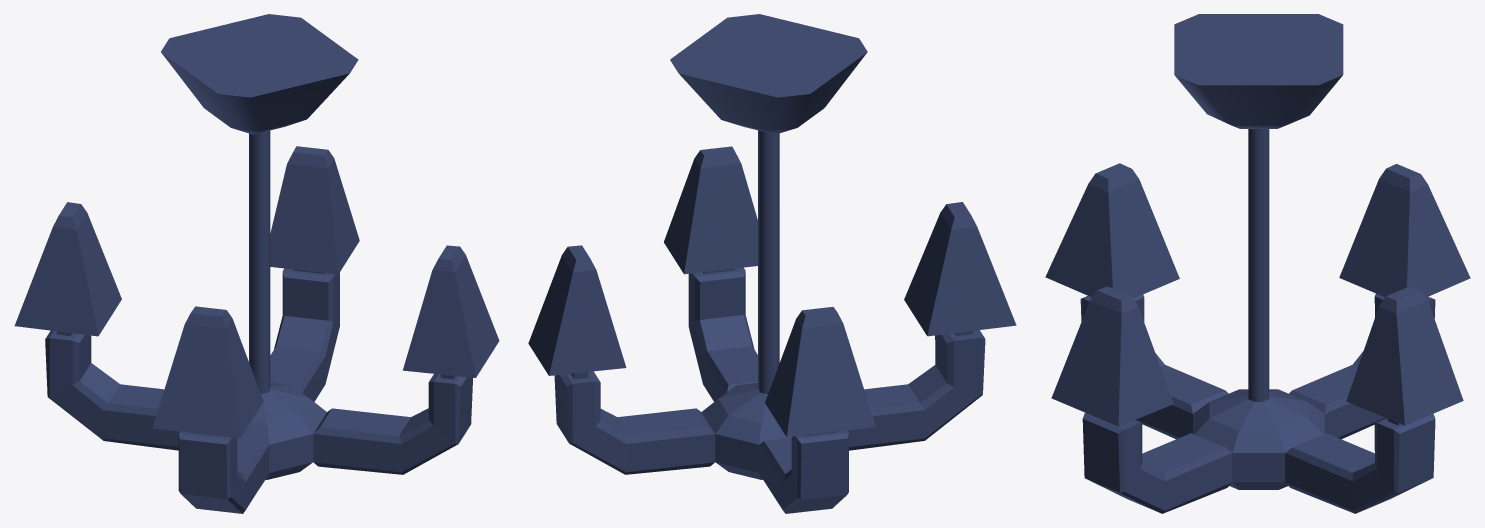
Rendered from Chandalere.fbx.
3 renders of one model, left to right at view 1: azimuth 30°, elevation 25°; view 2: azimuth 150°, elevation 25°; view 3: azimuth 270°, elevation 25°, orthographic. The views are drawn at different scales.
Parts seen in each view (by area): view 1: Chandalere_Base; view 2: Chandalere_Base; view 3: Chandalere_Base.
Boxes of the visible parts, <box> form: Chandalere_Base: <box>14,14,499,513</box>; Chandalere_Base: <box>528,14,1016,513</box>; Chandalere_Base: <box>1045,14,1470,513</box>.
Bounding box in the file's own units: 0.958 × 1.09 × 0.9681.
